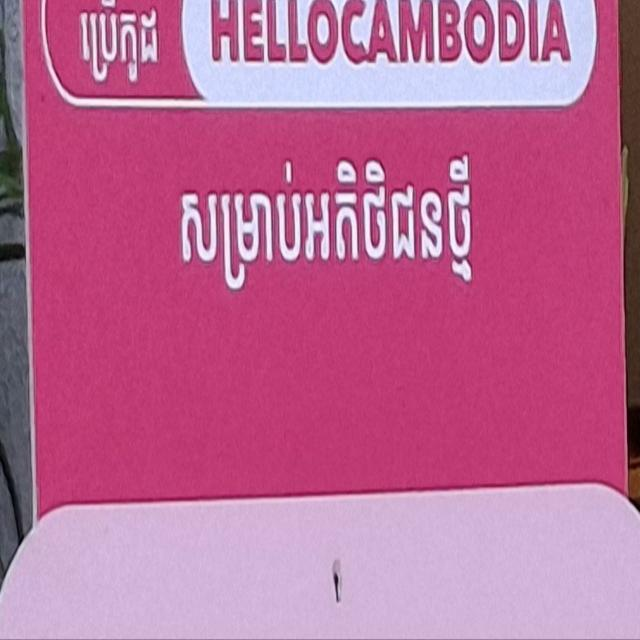Yolov11kh: (134, 128, 510, 368), (69, 1, 169, 98)
